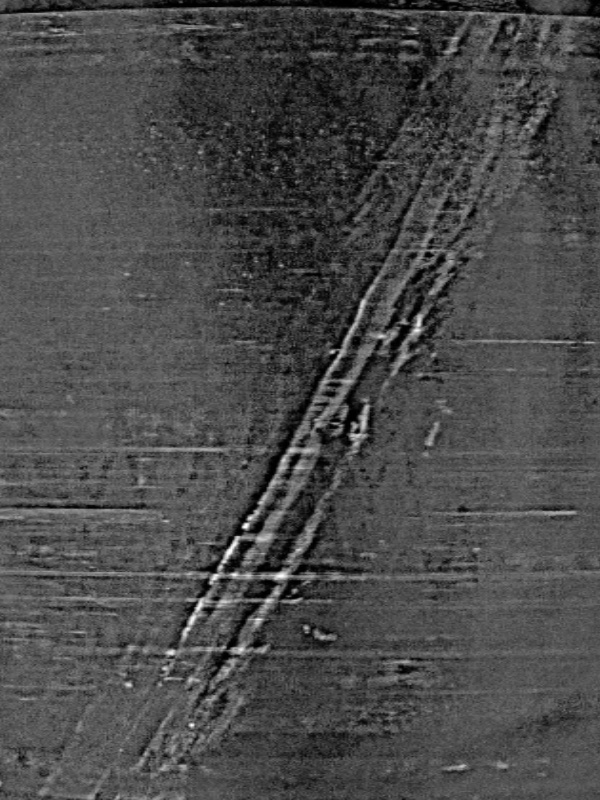splice_vulcanized: (37, 13, 574, 800)
